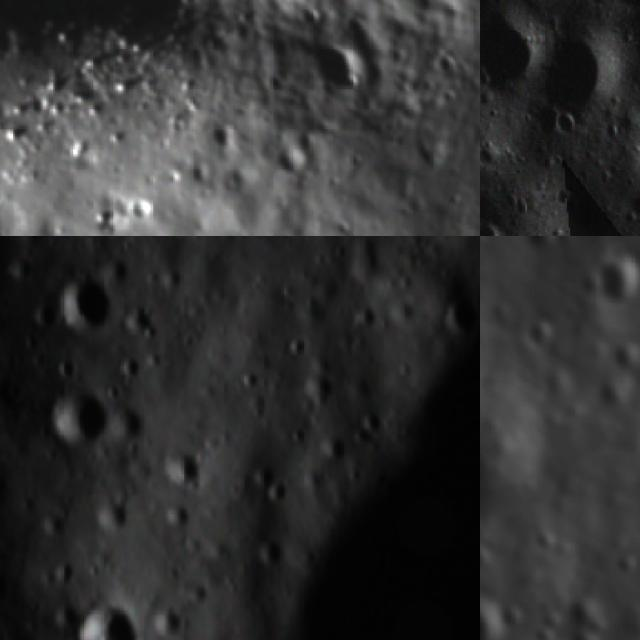crater: (539, 30, 618, 114), (48, 375, 124, 454), (480, 0, 547, 89), (304, 28, 369, 102), (49, 265, 114, 333), (65, 588, 146, 640), (585, 242, 640, 314), (155, 442, 206, 495), (433, 282, 480, 339), (116, 296, 164, 342), (274, 136, 319, 182), (291, 368, 340, 406), (522, 314, 558, 362), (480, 584, 510, 640), (90, 494, 131, 534), (27, 503, 71, 538), (0, 249, 38, 286), (549, 104, 582, 146), (98, 250, 138, 284), (252, 534, 291, 568), (263, 472, 298, 508), (350, 404, 390, 434), (154, 264, 189, 296), (351, 297, 382, 331), (315, 430, 351, 459), (211, 120, 238, 156), (126, 195, 158, 224), (27, 296, 56, 328), (611, 546, 640, 578), (281, 330, 314, 358), (234, 363, 267, 391), (113, 354, 147, 381), (533, 523, 560, 557), (28, 414, 56, 444), (2, 374, 27, 406), (52, 356, 82, 382), (342, 424, 376, 445), (250, 460, 274, 489), (328, 236, 353, 261), (392, 356, 416, 381), (444, 189, 466, 215), (244, 399, 268, 422), (284, 420, 308, 443), (142, 346, 164, 369), (184, 164, 206, 186), (101, 381, 123, 403), (27, 391, 50, 412), (348, 150, 368, 172), (434, 54, 456, 70), (480, 545, 491, 576), (313, 249, 330, 268), (334, 218, 351, 236)
